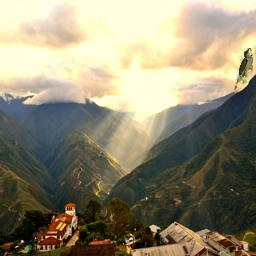Cuckoo: (234, 48, 253, 90)
